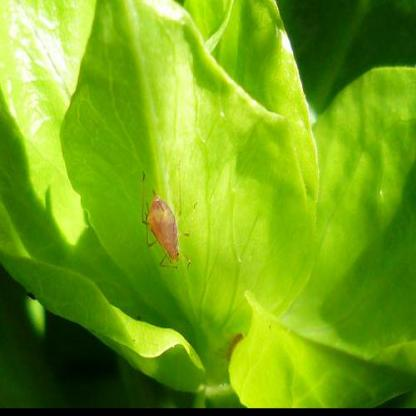aphid: (130, 166, 196, 273)
